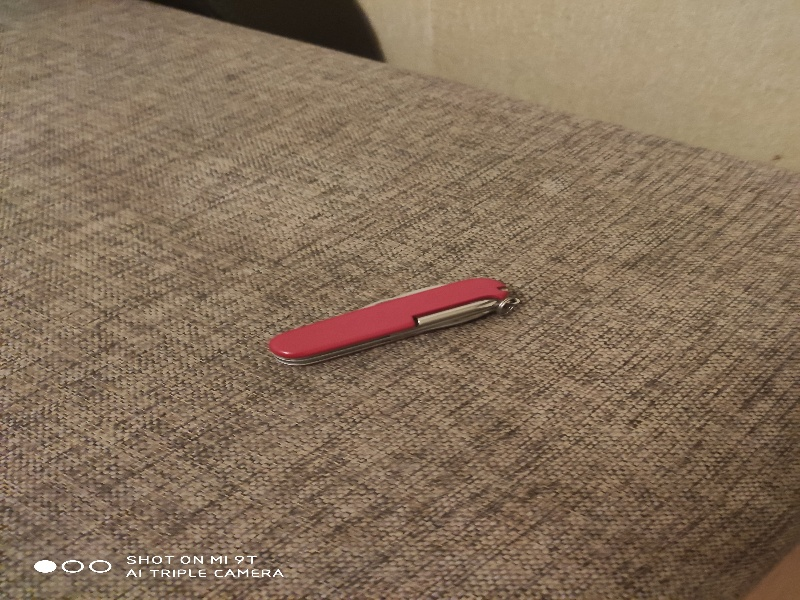knife: (255, 265, 521, 365)
